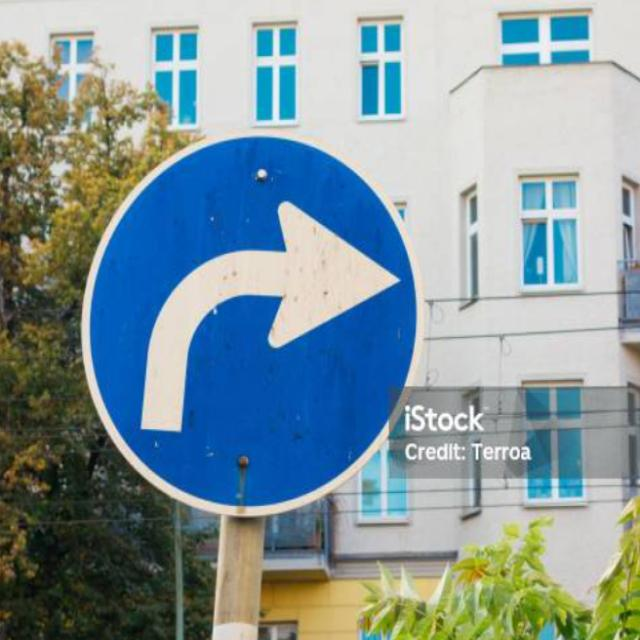RIGHT: (83, 134, 421, 513)
